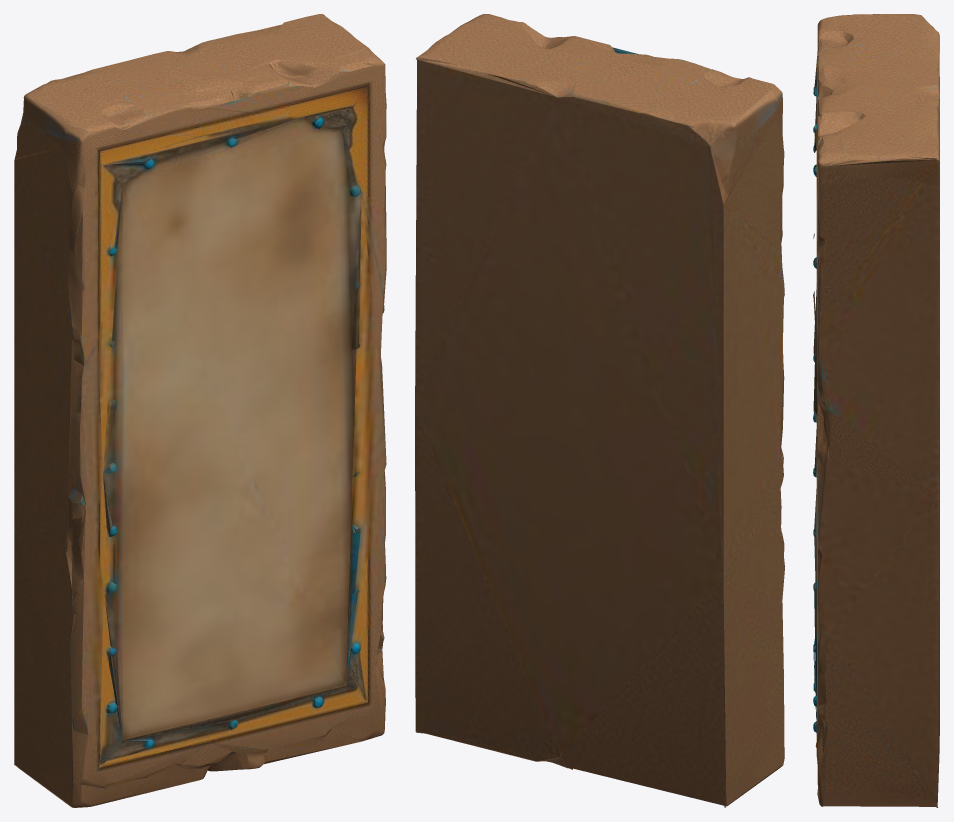
The model's file is deco_panneau.glb.
The picture shows the model from 3 angles, left to right: view 1: azimuth 30°, elevation 25°; view 2: azimuth 150°, elevation 25°; view 3: azimuth 270°, elevation 25°; orthographic projection. The views are drawn at different scales.
Visible parts, largest first — view 1: mesh_node; view 2: mesh_node; view 3: mesh_node.
Boxes of the visible parts, x1=… form: mesh_node: x1=14, y1=14, x2=386, y2=807; mesh_node: x1=415, y1=14, x2=784, y2=807; mesh_node: x1=813, y1=14, x2=939, y2=807.
Bounding box in the file's own units: 0.9113 × 1.9 × 0.3357.
1 material, 1 textured.
